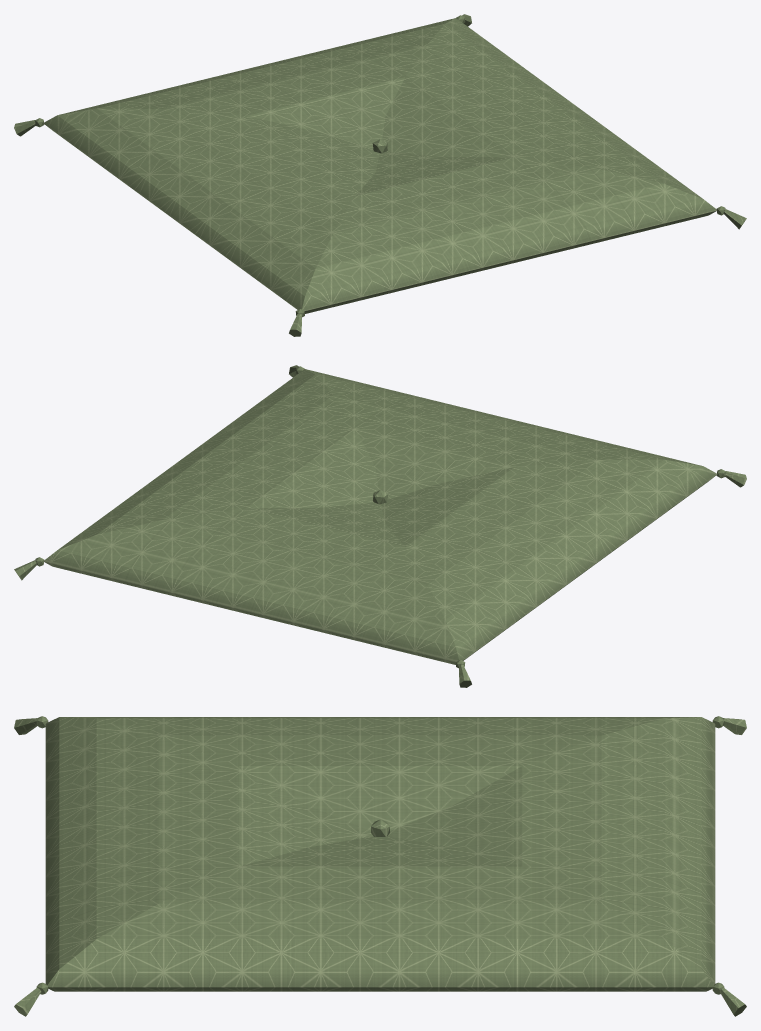
The model's file is 02B_Zabuton_Der.fbx.
The picture shows the model from 3 angles, top to bottom: view 1: azimuth 30°, elevation 25°; view 2: azimuth 150°, elevation 25°; view 3: azimuth 270°, elevation 25°; orthographic projection. The views are drawn at different scales.
Parts seen in each view (by area): view 1: LAY_02B_Zabuton_Salvia; view 2: LAY_02B_Zabuton_Salvia; view 3: LAY_02B_Zabuton_Salvia.
Boxes of the visible parts, x1,y1,x2,y2 form: LAY_02B_Zabuton_Salvia: (14, 14, 746, 336); LAY_02B_Zabuton_Salvia: (14, 365, 746, 687); LAY_02B_Zabuton_Salvia: (14, 716, 746, 1016).
Bounding box in the file's own units: 0.603 × 0.06 × 0.6459.
